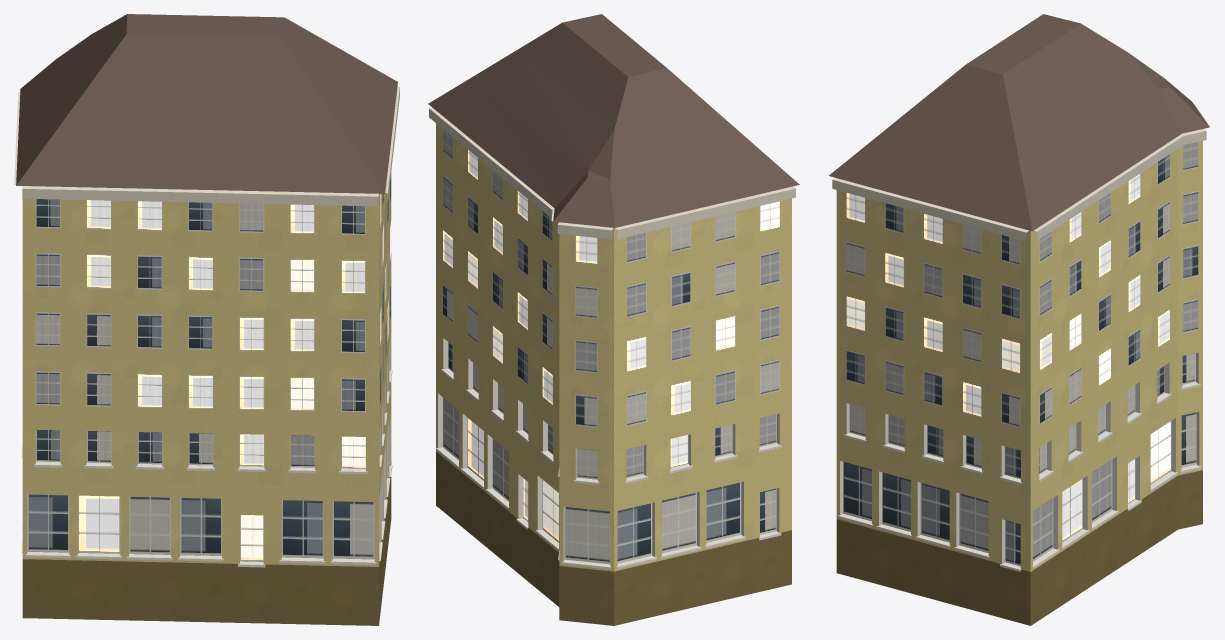
Rendered from z3c_al_nw_yellow.glb.
3 renders of one model, left to right at view 1: azimuth 30°, elevation 25°; view 2: azimuth 150°, elevation 25°; view 3: azimuth 270°, elevation 25°, orthographic. The views are drawn at different scales.
Parts seen in each view (by area): view 1: z3c_al_nw_yellow; view 2: z3c_al_nw_yellow; view 3: z3c_al_nw_yellow.
Boxes of the visible parts, x1,y1,x2,y2 form: z3c_al_nw_yellow: [14, 14, 399, 625]; z3c_al_nw_yellow: [428, 14, 799, 625]; z3c_al_nw_yellow: [829, 14, 1210, 625].
Size of the model in its own units: 20.92 by 27.63 by 19.26.
3 materials, 3 textured.
